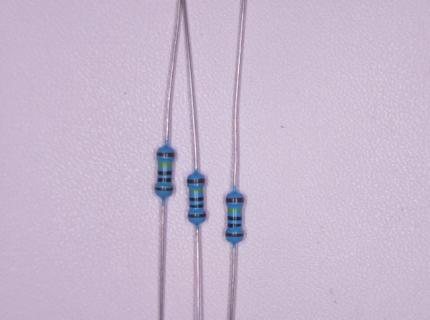Black band: (227, 216, 242, 221), (189, 196, 203, 201), (158, 171, 171, 176), (190, 204, 204, 208), (158, 178, 171, 182), (228, 223, 241, 227)
Brown band: (188, 178, 205, 184), (157, 152, 175, 157), (226, 199, 245, 203), (188, 214, 206, 218), (226, 233, 244, 237), (155, 188, 172, 191)
Yellow band: (228, 208, 243, 212), (158, 163, 171, 167), (189, 189, 202, 193)
